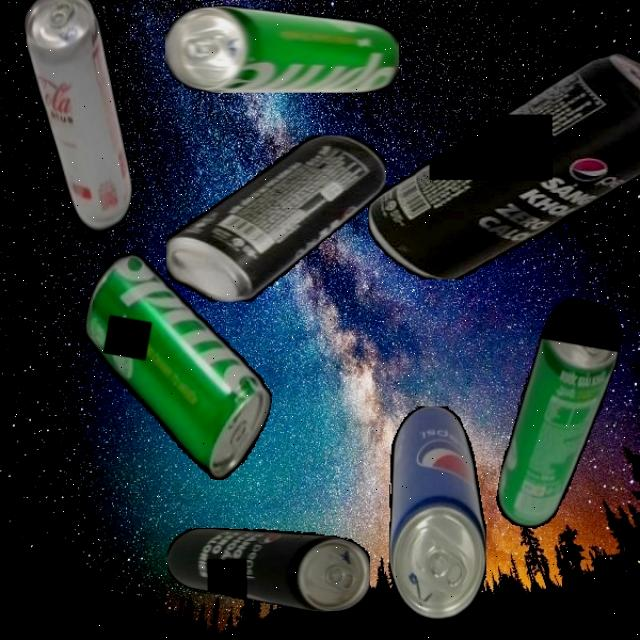debris: (368, 53, 640, 280), (62, 248, 292, 487), (165, 135, 386, 302), (493, 291, 627, 538), (18, 0, 140, 243), (388, 405, 486, 619), (165, 4, 399, 93), (167, 528, 370, 612)
